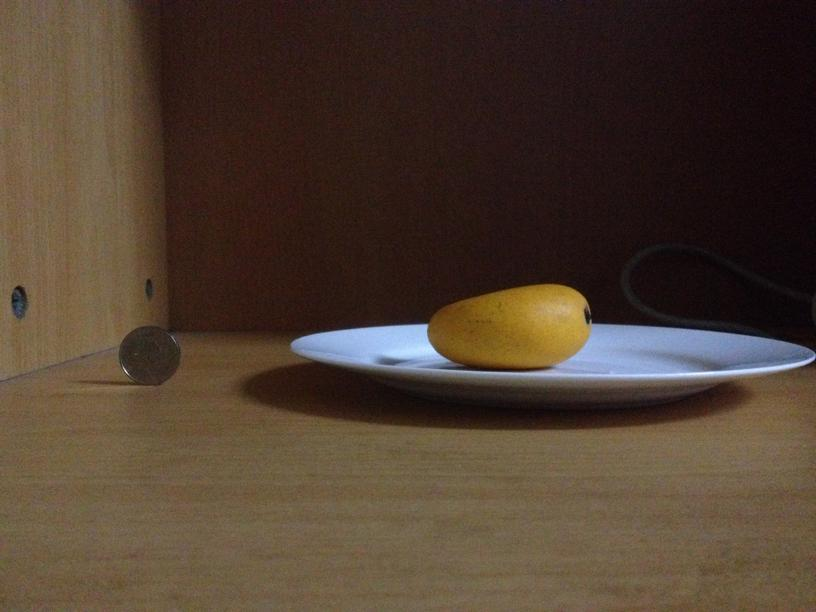coin: (113, 326, 180, 386)
mango: (426, 286, 592, 370)
